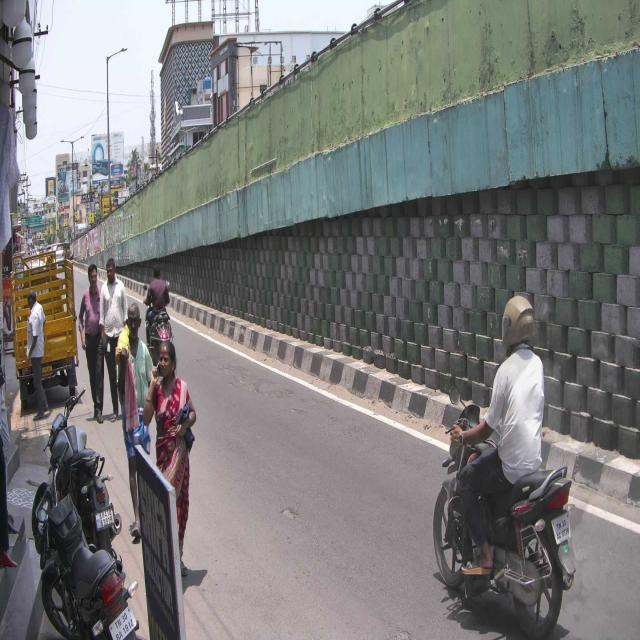single_rider: (433, 296, 575, 640)
